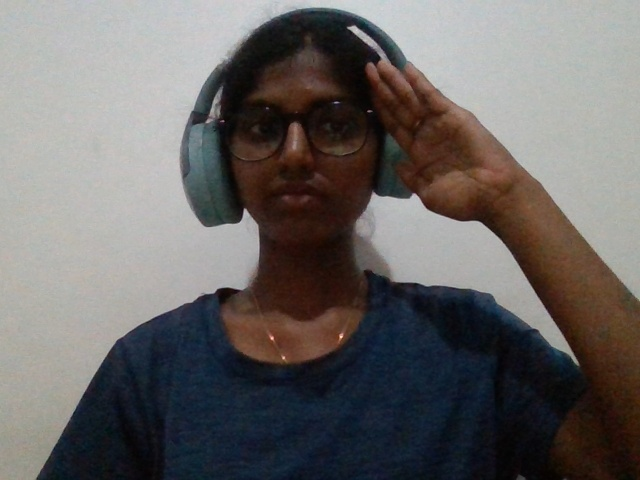Hello: (319, 25, 633, 308)
